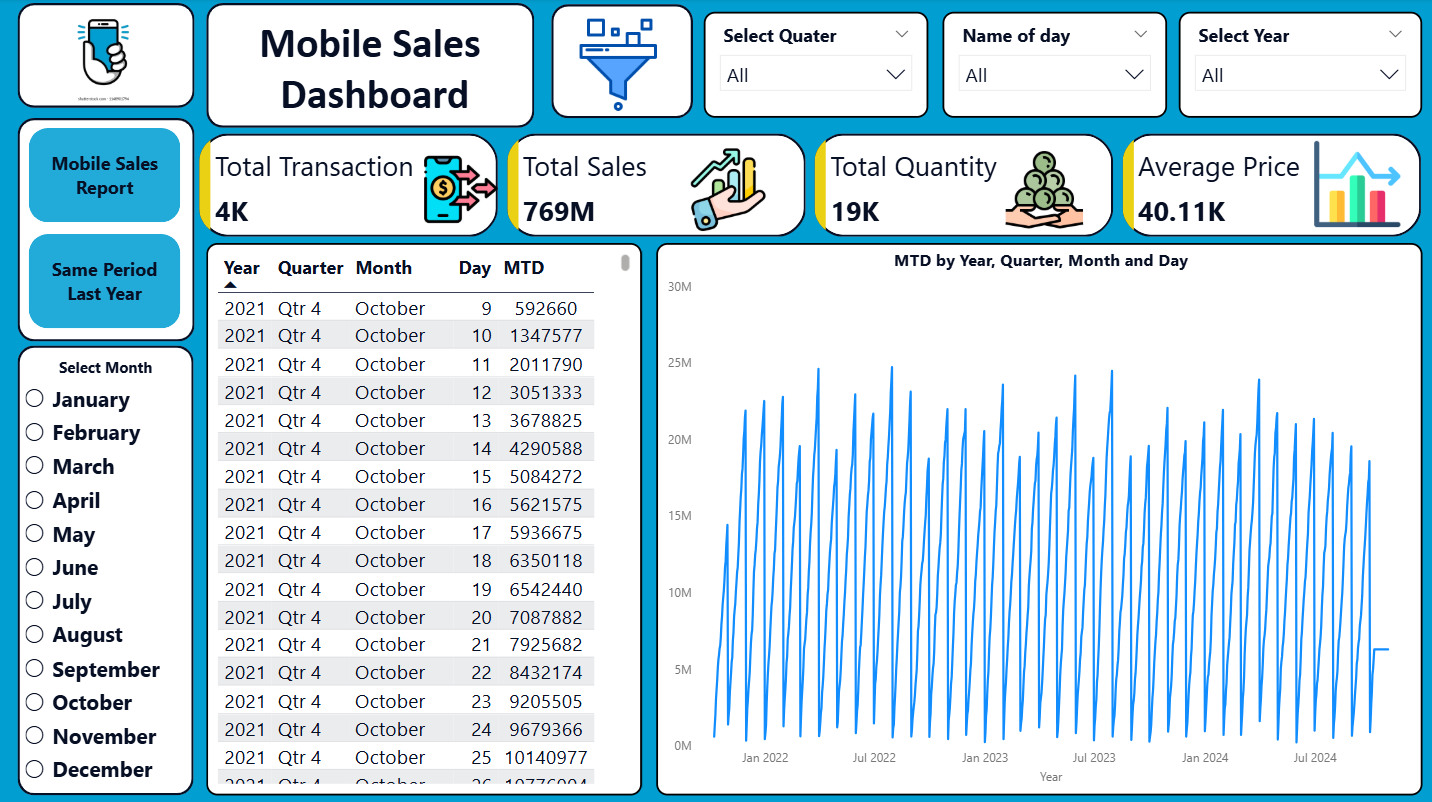

Layout of this report page (visuals, bound fields, positions):
{"tool":"powerbi","page":{"name":"MTD Report","canvas":[1280,720],"ordinal":1},"visuals":[{"type":"shape","box":[15.1,4.1,157.8,93.3],"z":0},{"type":"image","box":[0,4.1,183.9,93.3],"z":1000},{"type":"shape","box":[15.1,107,157.8,199],"z":2000},{"type":"shape","box":[15.4,309.6,156.9,400.6],"z":3000},{"type":"listSlicer","title":"Select Month","fields":{"Values":["Calendar.date.Variation.Date Hierarchy.Month"]},"box":[15.4,319.4,156.9,390.8],"z":4000},{"type":"cardVisual","fields":{"Data":["sales data.total_transaction","sales data.total_sales","sales data.total_quantity","sales data.Price Per Unit"]},"box":[172.9,115.3,1100,102.9],"z":5000},{"type":"image","box":[373.2,122.1,75.5,96.1],"z":6000},{"type":"image","box":[865.9,129,127.6,83.7],"z":7000},{"type":"image","box":[1159.5,122.1,97.4,86.4],"z":8000},{"type":"image","box":[584.6,129,127.6,83.7],"z":9000},{"type":"slicer","fields":{"Values":["Calendar.date.Variation.Date Hierarchy.Quarter"]},"box":[627.1,12.3,200.3,94.7],"z":10000},{"type":"slicer","fields":{"Values":["Calendar.Day Name"]},"box":[839.8,12.3,200.3,94.7],"z":11000},{"type":"slicer","fields":{"Values":["Calendar.date.Variation.Date Hierarchy.Year","Calendar.date.Variation.Date Hierarchy.Quarter","Calendar.date.Variation.Date Hierarchy.Month","Calendar.date.Variation.Date Hierarchy.Day"]},"box":[1049.7,12.3,216.8,94.7],"z":12000},{"type":"shape","box":[491.3,5.5,126.2,101.5],"z":13000},{"type":"shape","box":[183.9,4.1,292.3,111.1],"z":14000},{"type":"image","box":[495.4,12.3,109.8,94.7],"z":15000},{"type":"textbox","box":[172.9,12.3,322.5,116.6],"z":16000},{"type":"lineChart","fields":{"Y":["sales data.MTD"],"Category":["Calendar.date.Variation.Date Hierarchy.Year","Calendar.date.Variation.Date Hierarchy.Quarter","Calendar.date.Variation.Date Hierarchy.Month","Calendar.date.Variation.Date Hierarchy.Day"]},"box":[584.1,218.5,682.2,491.7],"z":17000},{"type":"tableEx","fields":{"Values":["Calendar.date.Variation.Date Hierarchy.Year","Calendar.date.Variation.Date Hierarchy.Quarter","Calendar.date.Variation.Date Hierarchy.Month","Calendar.date.Variation.Date Hierarchy.Day","sales data.MTD"]},"box":[183.5,218.5,388,491.7],"z":18000},{"type":"pageNavigator","box":[26.1,115.3,135.8,179.8],"z":19000}]}

Visuals, with their boxes in screenshot pixels (x1, y1, x2, y2), scaled from the page's 1280x720 canvas onto the 1432x802 screenshot:
shape: (17, 5, 193, 108)
image: (0, 5, 206, 108)
shape: (17, 119, 193, 341)
shape: (17, 345, 193, 791)
"Select Month" listSlicer: (17, 356, 193, 791)
cardVisual - sales data.total_transaction x sales data.total_sales: (193, 128, 1424, 243)
image: (418, 136, 502, 243)
image: (969, 144, 1111, 237)
image: (1297, 136, 1406, 232)
image: (654, 144, 797, 237)
slicer - Calendar.date.Variation.Date Hierarchy.Quarter: (702, 14, 926, 119)
slicer - Calendar.Day Name: (940, 14, 1164, 119)
slicer - Calendar.date.Variation.Date Hierarchy.Year x Calendar.date.Variation.Date Hierarchy.Quarter: (1174, 14, 1417, 119)
shape: (550, 6, 691, 119)
shape: (206, 5, 533, 128)
image: (554, 14, 677, 119)
textbox: (193, 14, 554, 144)
lineChart - sales data.MTD x Calendar.date.Variation.Date Hierarchy.Year: (653, 243, 1417, 791)
tableEx - Calendar.date.Variation.Date Hierarchy.Year x Calendar.date.Variation.Date Hierarchy.Quarter: (205, 243, 639, 791)
pageNavigator: (29, 128, 181, 329)
